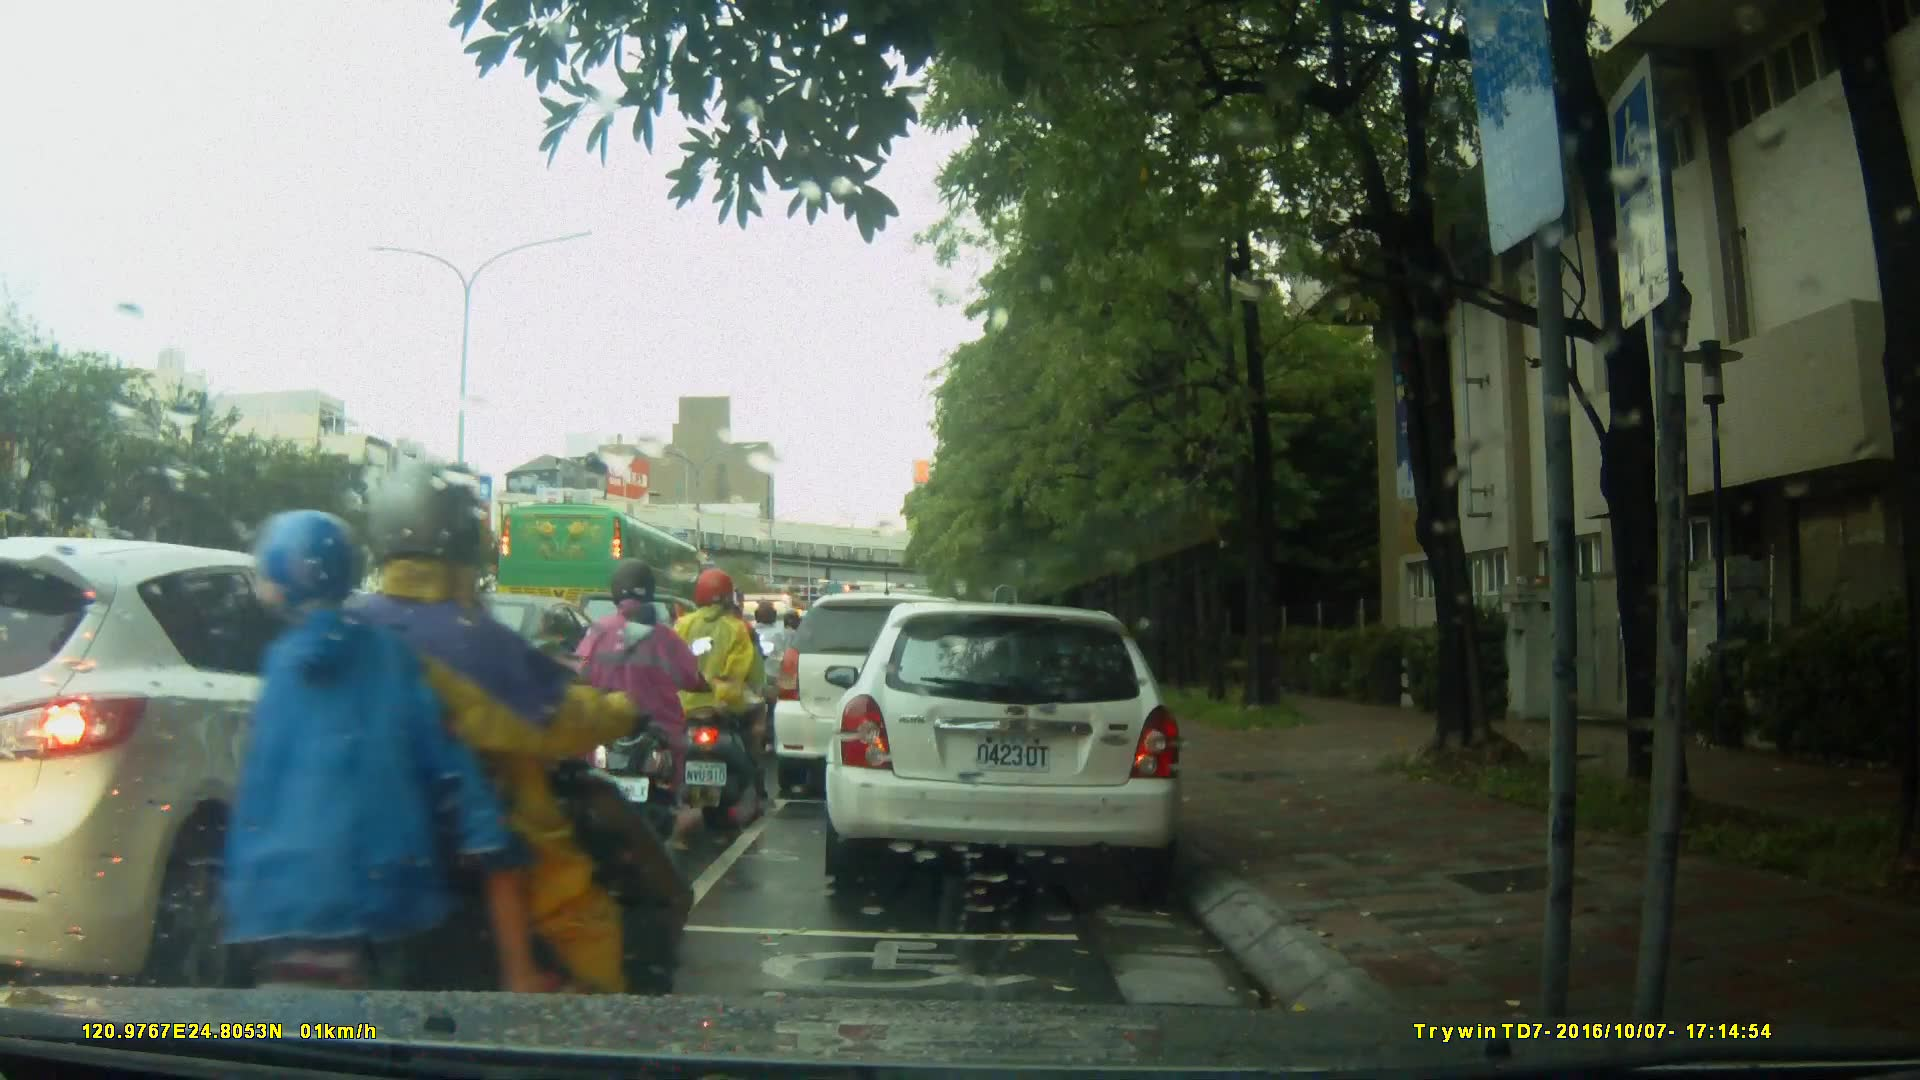rider: (212, 465, 703, 1077), (573, 564, 689, 870), (679, 565, 767, 815), (691, 590, 760, 763), (744, 598, 799, 752), (773, 605, 815, 716)
vehicle: (5, 536, 469, 988), (831, 592, 1196, 897), (316, 589, 629, 776), (770, 590, 999, 804), (497, 503, 713, 636)
